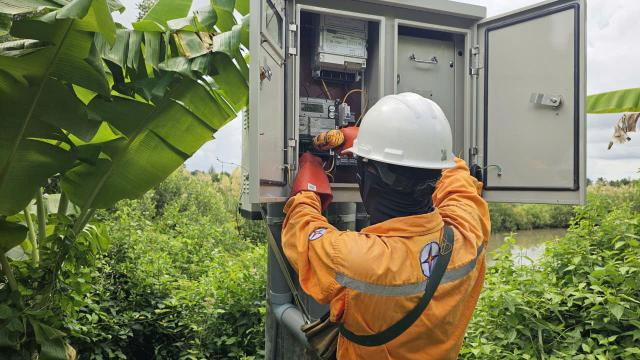gloves: (293, 143, 332, 210), (315, 121, 370, 155)
shoes: (360, 90, 460, 183)
